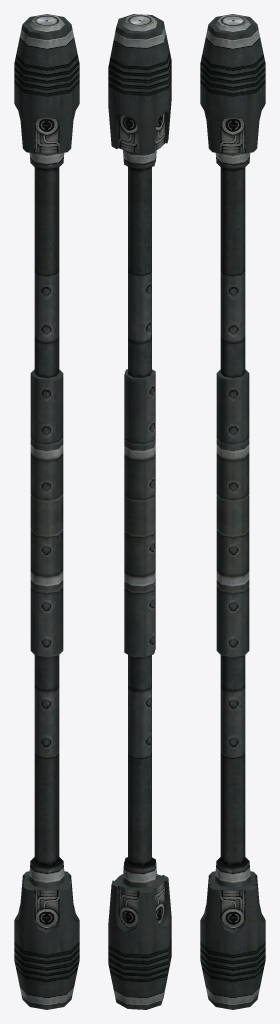
File: wp_mle_lance_s01_l0.fbx
3 renders of one model, left to right at view 1: azimuth 90°, elevation 25°; view 2: azimuth 150°, elevation 25°; view 3: azimuth 270°, elevation 25°, orthographic.
Visible parts, largest first — view 1: mesh_node; view 2: mesh_node; view 3: mesh_node.
Boxes of the visible parts, left/top/right/bottom form: mesh_node: left=14, top=14, right=79, bottom=1009; mesh_node: left=108, top=14, right=171, bottom=1009; mesh_node: left=200, top=14, right=265, bottom=1009.
Size of the model in its own units: 0.0903 by 1.5 by 0.0903.
1 material, 1 textured.
